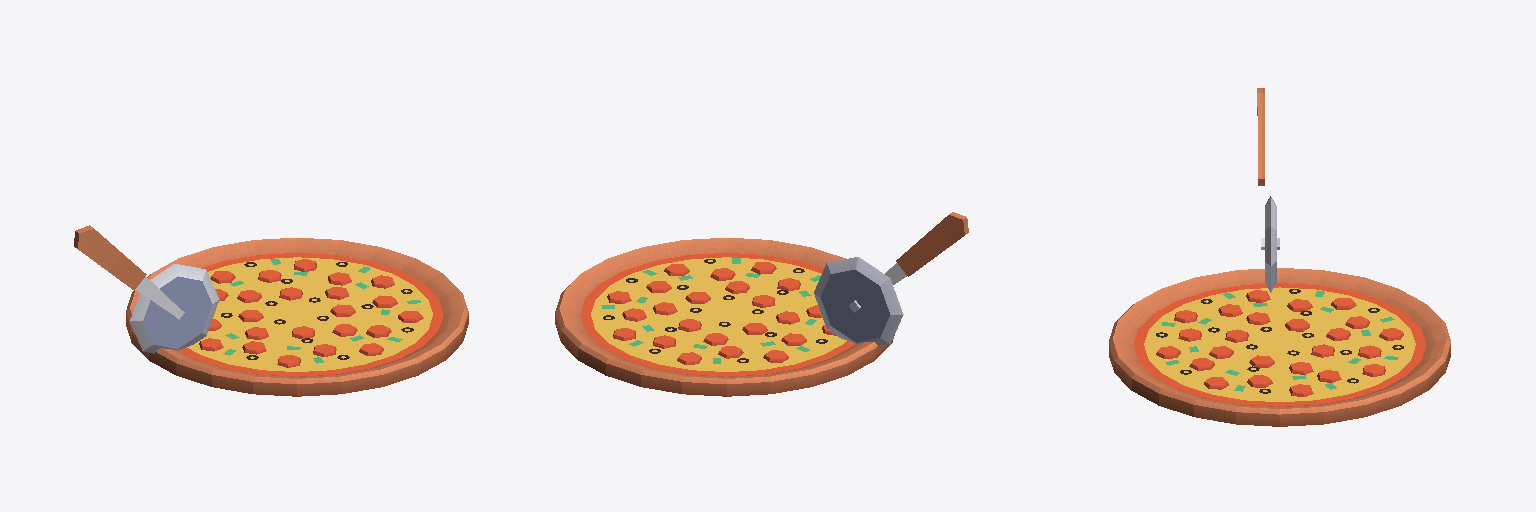
3 renders of one model, left to right at view 1: azimuth 30°, elevation 25°; view 2: azimuth 150°, elevation 25°; view 3: azimuth 270°, elevation 25°, orthographic.
Visible parts, largest first — view 1: pizza, pizza-cutter; view 2: pizza, pizza-cutter; view 3: pizza, pizza-cutter.
Part boxes in pixels (bbox=[...]): pizza: bbox=[126, 238, 468, 396]; pizza-cutter: bbox=[74, 225, 219, 353]; pizza: bbox=[555, 238, 894, 396]; pizza-cutter: bbox=[814, 212, 968, 346]; pizza: bbox=[1109, 268, 1450, 426]; pizza-cutter: bbox=[1257, 88, 1279, 292].
Size of the model in its own units: 1.08 by 0.4247 by 0.8418.
Materials: 1 (1 with a texture image).